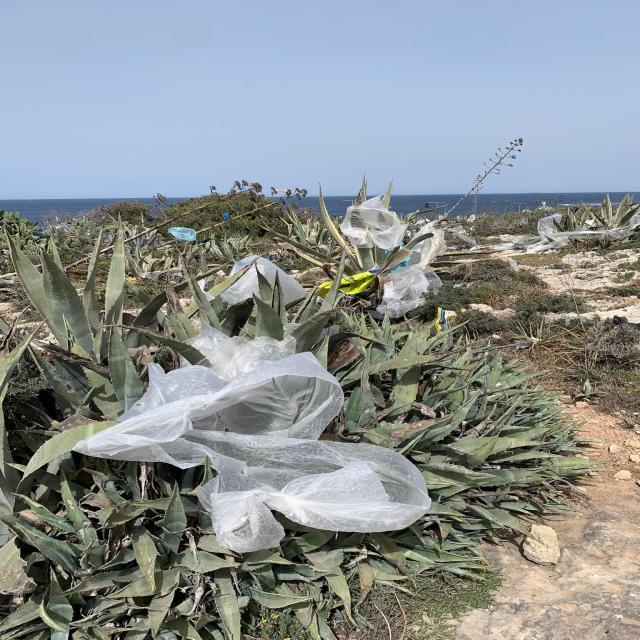Plastic bag - wrapper: (73, 318, 435, 551), (340, 196, 449, 322), (444, 213, 640, 255), (219, 255, 309, 307), (314, 271, 378, 300), (437, 307, 466, 333), (167, 226, 197, 241), (539, 201, 548, 211), (223, 212, 229, 221)
